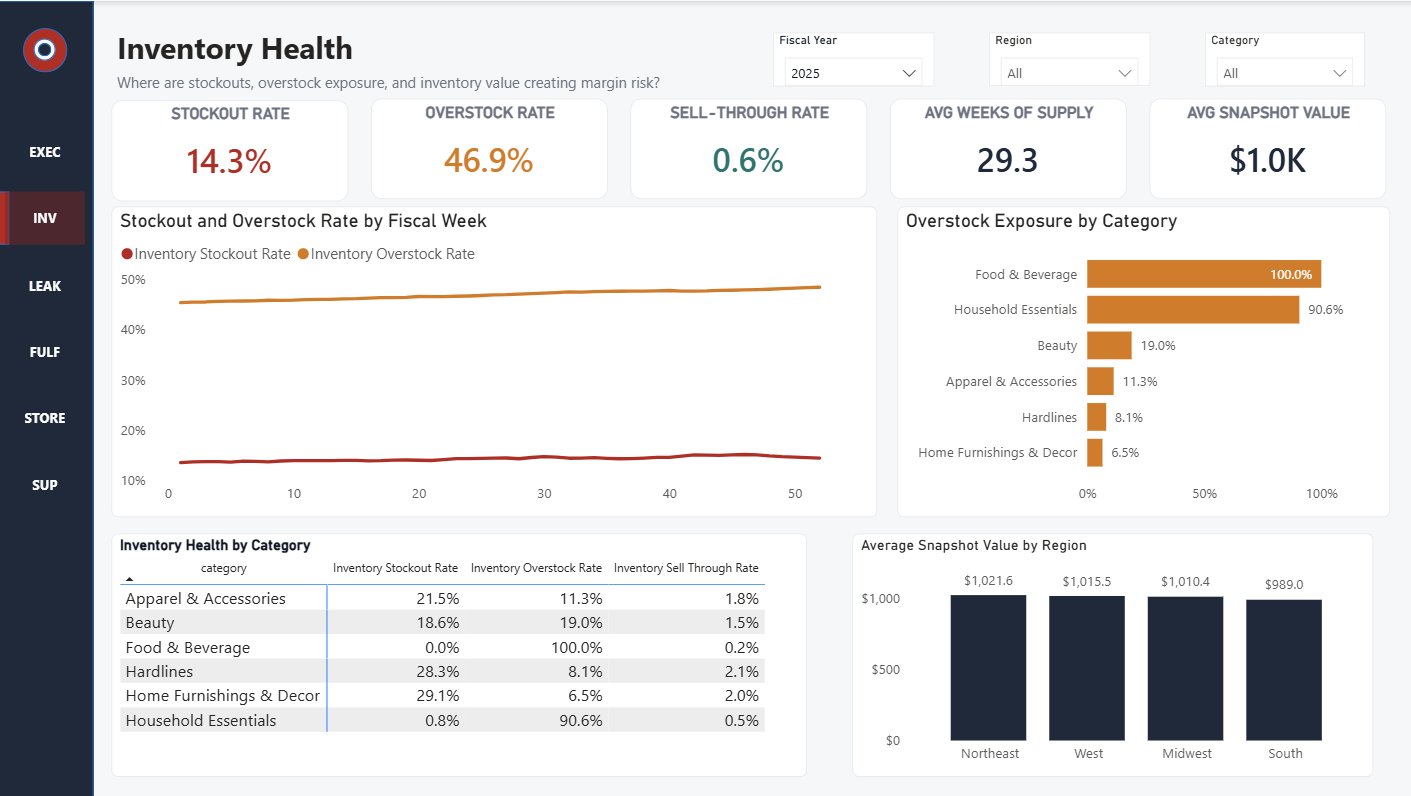

Layout of this report page (visuals, bound fields, positions):
{"tool":"powerbi","page":{"name":"Inventory Health","canvas":[1280,720],"ordinal":2},"visuals":[{"type":"shape","box":[0,0,88,720],"z":0},{"type":"shape","box":[24,24,40,40],"z":1000},{"type":"shape","box":[34,34,20,20],"z":2000},{"type":"shape","box":[38,38,12,12],"z":3000},{"type":"shape","box":[0,172,12,48],"z":4000},{"type":"actionButton","box":[8,172,72,48],"z":5000},{"type":"actionButton","box":[8,232,72,48],"z":6000},{"type":"actionButton","box":[8,292,72,48],"z":7000},{"type":"actionButton","box":[8,352,72,48],"z":8000},{"type":"actionButton","box":[8,412,72,48],"z":9000},{"type":"textbox","box":[104.5,0,375.5,75.7],"z":10000},{"type":"textbox","box":[103.7,58.8,608.6,45],"z":11000},{"type":"slicer","title":"Fiscal Year","fields":{"Values":["Dim Fiscal Year.fiscal_year"]},"box":[700,28,145.4,48.5],"z":12000},{"type":"slicer","title":"Region","fields":{"Values":["Inventory Health.region"]},"box":[895,28,145,48],"z":13000},{"type":"cardVisual","title":"STOCKOUT RATE","fields":{"Data":["_Measures.Inventory Stockout Rate"]},"box":[104,88.9,213.3,91.1],"z":14000},{"type":"cardVisual","title":"OVERSTOCK RATE","fields":{"Data":["_Measures.Inventory Overstock Rate"]},"box":[338,88,213.5,90.9],"z":15000},{"type":"cardVisual","title":"SELL-THROUGH RATE","fields":{"Data":["_Measures.Inventory Sell Through Rate"]},"box":[572,88,213.5,90.9],"z":16000},{"type":"cardVisual","title":"AVG WEEKS OF SUPPLY","fields":{"Data":["_Measures.Average Weeks of Supply"]},"box":[806,88,213.5,90.9],"z":17000},{"type":"cardVisual","title":"AVG SNAPSHOT VALUE","fields":{"Data":["_Measures.Average Inventory Value"]},"box":[1040,88,213.5,90.9],"z":18000},{"type":"pivotTable","title":"Inventory Health by Category","fields":{"Rows":["Inventory Health.category"],"Values":["_Measures.Inventory Stockout Rate","_Measures.Inventory Overstock Rate","_Measures.Inventory Sell Through Rate"]},"box":[104.5,480,626.9,219.6],"z":19000},{"type":"clusteredColumnChart","title":"Average Snapshot Value by Region","fields":{"Category":["Inventory Health.region"],"Y":["_Measures.Average Inventory Value"]},"box":[772.2,480,469.4,219.6],"z":20000},{"type":"lineChart","title":"Stockout and Overstock Rate by Fiscal Week","fields":{"Category":["Inventory Health.fiscal_week"],"Y":["_Measures.Inventory Stockout Rate","_Measures.Inventory Overstock Rate"]},"box":[104,185,690,280],"z":21000},{"type":"clusteredBarChart","title":"Overstock Exposure by Category","fields":{"Category":["Inventory Health.category"],"Y":["_Measures.Inventory Overstock Rate"]},"box":[812,185,444,280],"z":22000},{"type":"slicer","title":"Category","fields":{"Values":["ML Margin Risk Predictions.predicted_risk_band"]},"box":[1090,28,143.8,48.5],"z":23000},{"type":"actionButton","box":[8,112,72,48],"z":24000}]}

Visuals, with their boxes on the page's 1280x720 design canvas (x1, y1, x2, y2). These are canvas units, not pixel positions in the 1411x796 screenshot, which may show the page scaled, cropped or inside an application window:
shape: (x1=0, y1=0, x2=88, y2=720)
shape: (x1=24, y1=24, x2=64, y2=64)
shape: (x1=34, y1=34, x2=54, y2=54)
shape: (x1=38, y1=38, x2=50, y2=50)
shape: (x1=0, y1=172, x2=12, y2=220)
actionButton: (x1=8, y1=172, x2=80, y2=220)
actionButton: (x1=8, y1=232, x2=80, y2=280)
actionButton: (x1=8, y1=292, x2=80, y2=340)
actionButton: (x1=8, y1=352, x2=80, y2=400)
actionButton: (x1=8, y1=412, x2=80, y2=460)
textbox: (x1=104, y1=0, x2=480, y2=76)
textbox: (x1=104, y1=59, x2=712, y2=104)
"Fiscal Year" slicer: (x1=700, y1=28, x2=845, y2=76)
"Region" slicer: (x1=895, y1=28, x2=1040, y2=76)
"STOCKOUT RATE" cardVisual: (x1=104, y1=89, x2=317, y2=180)
"OVERSTOCK RATE" cardVisual: (x1=338, y1=88, x2=552, y2=179)
"SELL-THROUGH RATE" cardVisual: (x1=572, y1=88, x2=786, y2=179)
"AVG WEEKS OF SUPPLY" cardVisual: (x1=806, y1=88, x2=1020, y2=179)
"AVG SNAPSHOT VALUE" cardVisual: (x1=1040, y1=88, x2=1254, y2=179)
"Inventory Health by Category" pivotTable: (x1=104, y1=480, x2=731, y2=700)
"Average Snapshot Value by Region" clusteredColumnChart: (x1=772, y1=480, x2=1242, y2=700)
"Stockout and Overstock Rate by Fiscal Week" lineChart: (x1=104, y1=185, x2=794, y2=465)
"Overstock Exposure by Category" clusteredBarChart: (x1=812, y1=185, x2=1256, y2=465)
"Category" slicer: (x1=1090, y1=28, x2=1234, y2=76)
actionButton: (x1=8, y1=112, x2=80, y2=160)
